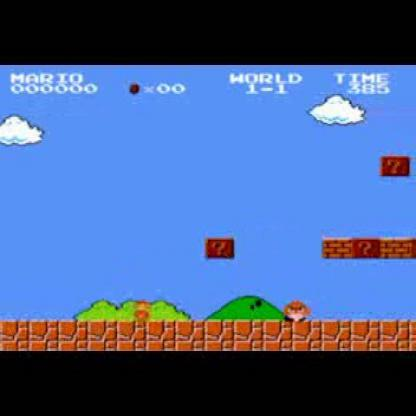Goomba: (279, 298, 312, 324)
